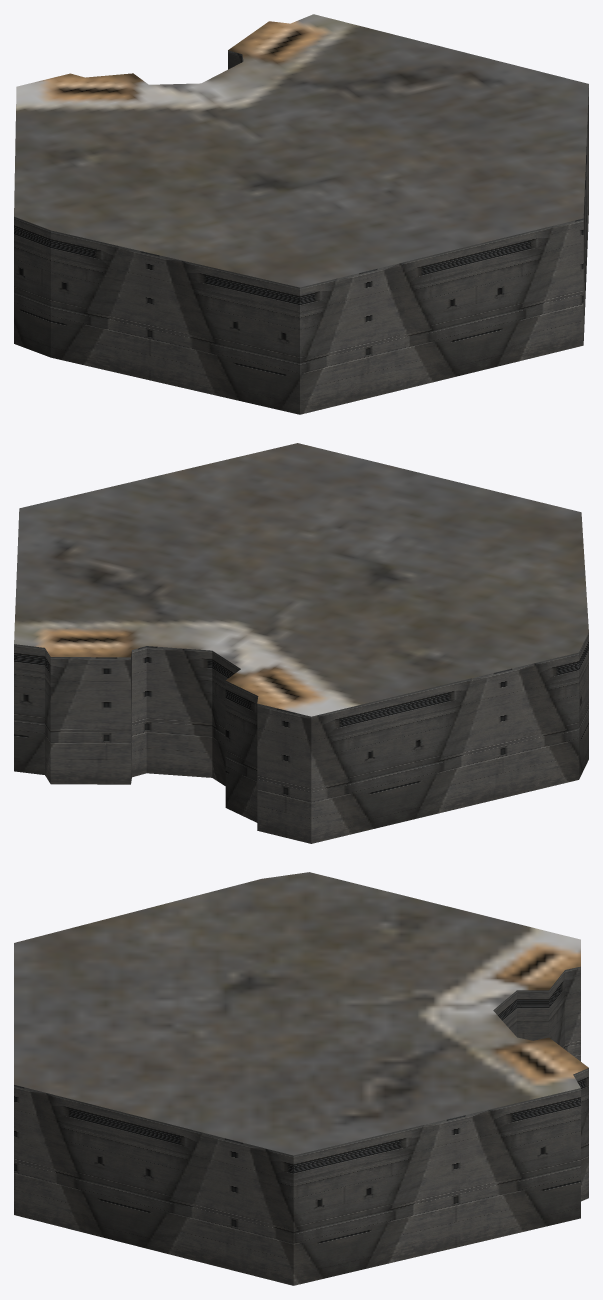
The model's file is fortress_light_a_62.glb.
The picture shows the model from 3 angles, top to bottom: view 1: azimuth 30°, elevation 25°; view 2: azimuth 150°, elevation 25°; view 3: azimuth 270°, elevation 25°; orthographic projection. The views are drawn at different scales.
Visible parts, largest first — view 1: buildings/saxarba/fortress_light/fortress_light_a_62; view 2: buildings/saxarba/fortress_light/fortress_light_a_62; view 3: buildings/saxarba/fortress_light/fortress_light_a_62.
Boxes of the visible parts, bbox=[...] form: buildings/saxarba/fortress_light/fortress_light_a_62: bbox=[14, 14, 588, 414]; buildings/saxarba/fortress_light/fortress_light_a_62: bbox=[14, 443, 588, 843]; buildings/saxarba/fortress_light/fortress_light_a_62: bbox=[14, 872, 588, 1285].
Size of the model in its own units: 84 by 18 by 72.
